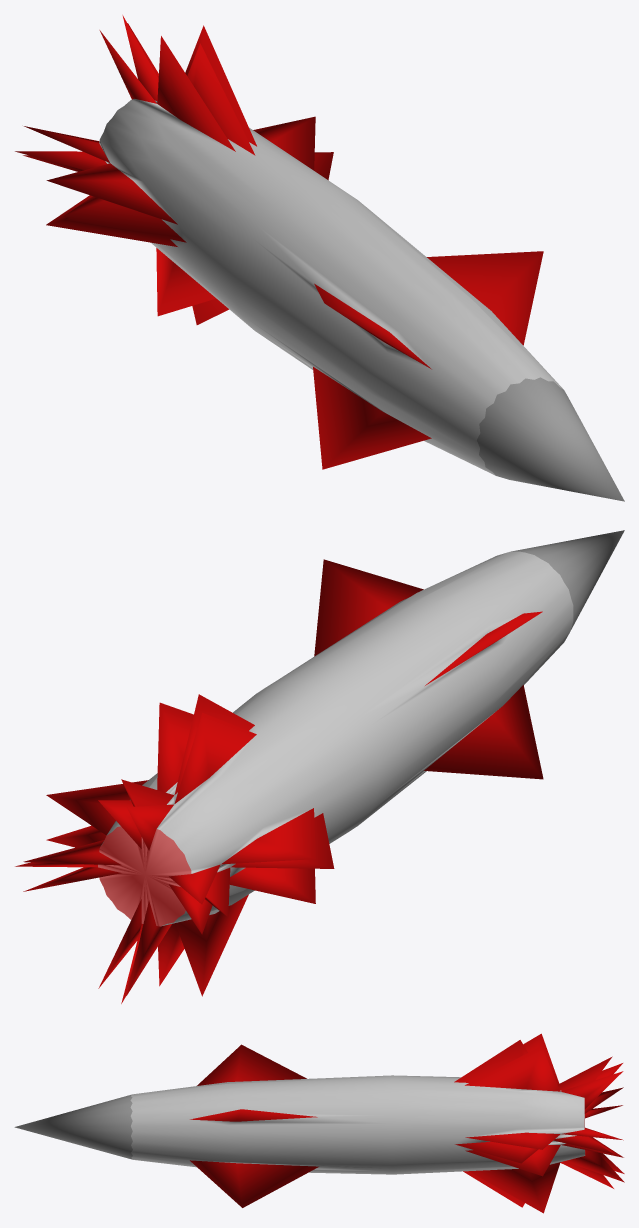
The model's file is Rocket Ship.fbx.
3 views of the same model, one above another, from view 1: azimuth 30°, elevation 25°; view 2: azimuth 150°, elevation 25°; view 3: azimuth 270°, elevation 25° (orthographic). The views are drawn at different scales.
Parts seen in each view (by area): view 1: pCylinder2; view 2: pCylinder2; view 3: pCylinder2.
Boxes of the visible parts, x1,y1,x2,y2 form: pCylinder2: (15,15,624,501); pCylinder2: (15,530,624,1003); pCylinder2: (14,1033,624,1213).
Bounding box in the file's own units: 3.74 × 3.74 × 12.29.
